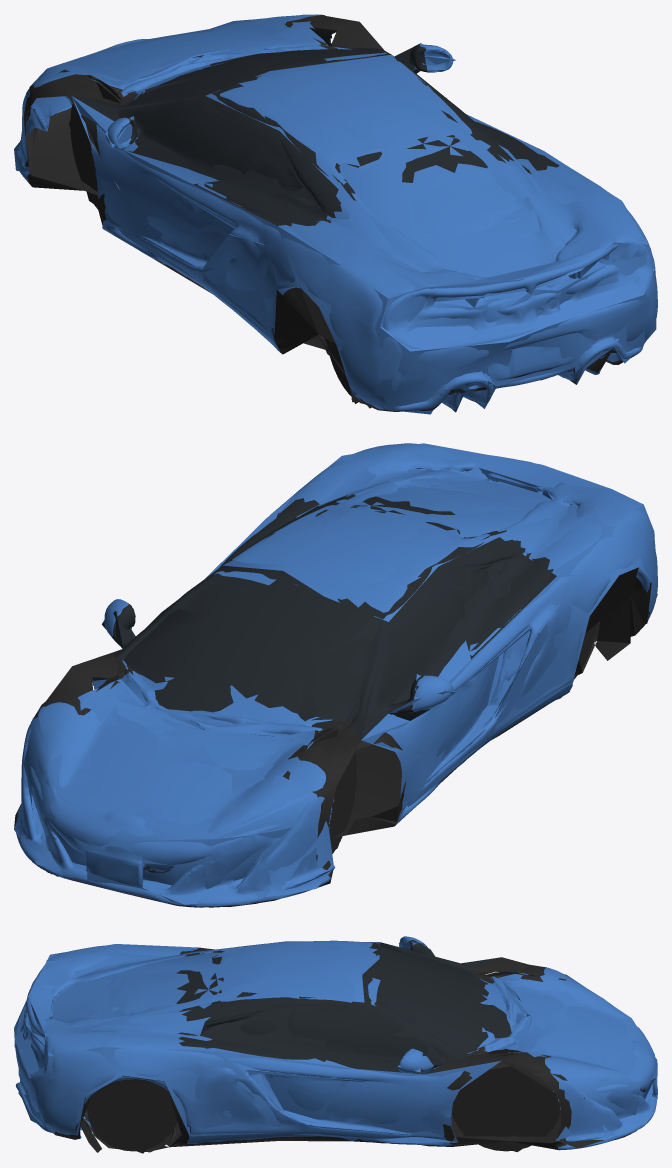
Rendered from mclaren-675lt-spider.glb.
3 renders of one model, top to bottom at view 1: azimuth 30°, elevation 25°; view 2: azimuth 150°, elevation 25°; view 3: azimuth 270°, elevation 25°, orthographic. The views are drawn at different scales.
Parts seen in each view (by area): view 1: body, far; view 2: body, far; view 3: body, far.
Part boxes in pixels (box(x1,y1,x2,y2)): body: box(17, 14, 657, 411); far: box(14, 14, 656, 414); body: box(16, 443, 657, 907); far: box(14, 443, 657, 904); body: box(14, 936, 657, 1152); far: box(14, 941, 657, 1153).
Bounding box in the file's own units: 2.14 × 1.2 × 4.6.
